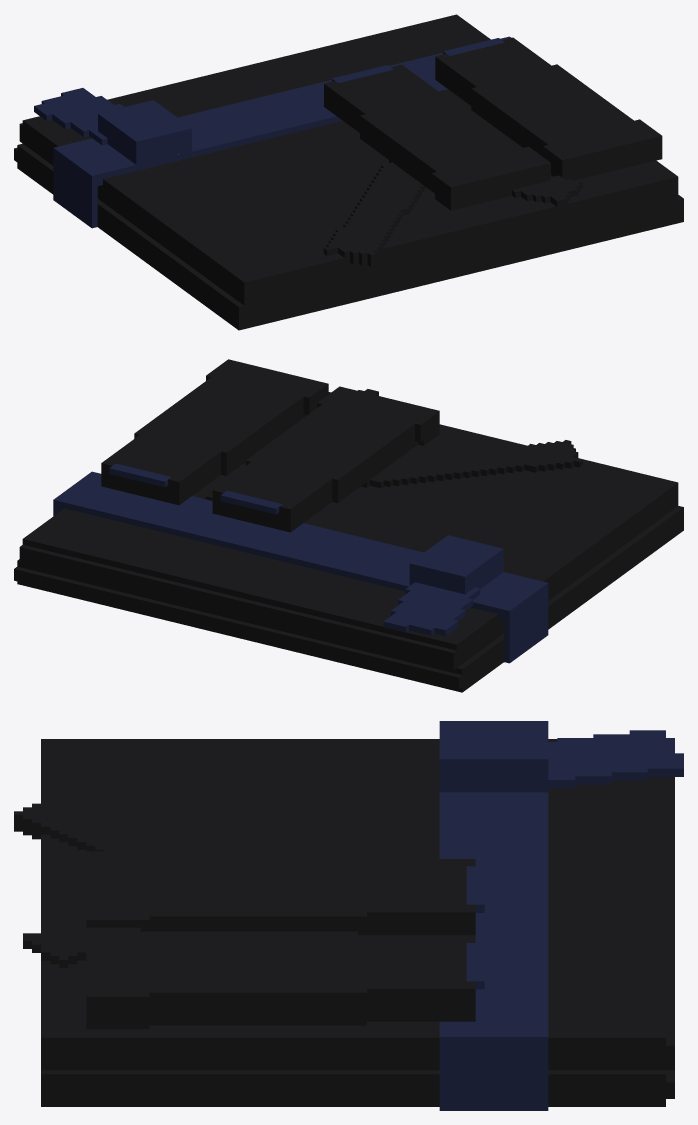
Rendered from jacket_ninja.glb.
The picture shows the model from 3 angles, top to bottom: view 1: azimuth 30°, elevation 25°; view 2: azimuth 150°, elevation 25°; view 3: azimuth 270°, elevation 25°; orthographic projection. The views are drawn at different scales.
Parts seen in each view (by area): view 1: jacket_ninja:compound; view 2: jacket_ninja:compound; view 3: jacket_ninja:compound.
Boxes of the visible parts, box(x1,y1,x2,y2) form: jacket_ninja:compound: box(14, 14, 683, 330); jacket_ninja:compound: box(14, 359, 683, 692); jacket_ninja:compound: box(14, 721, 683, 1110).
Bounding box in the file's own units: 0.328 × 0.052 × 0.296.
